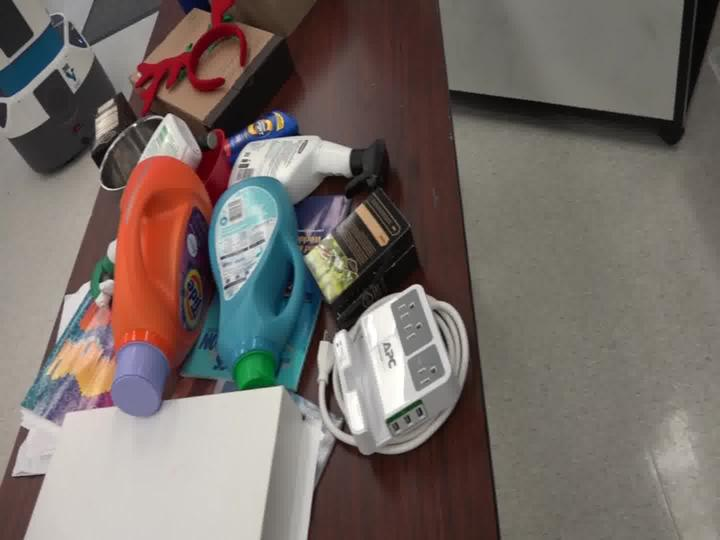tide: (111, 129, 211, 409)
